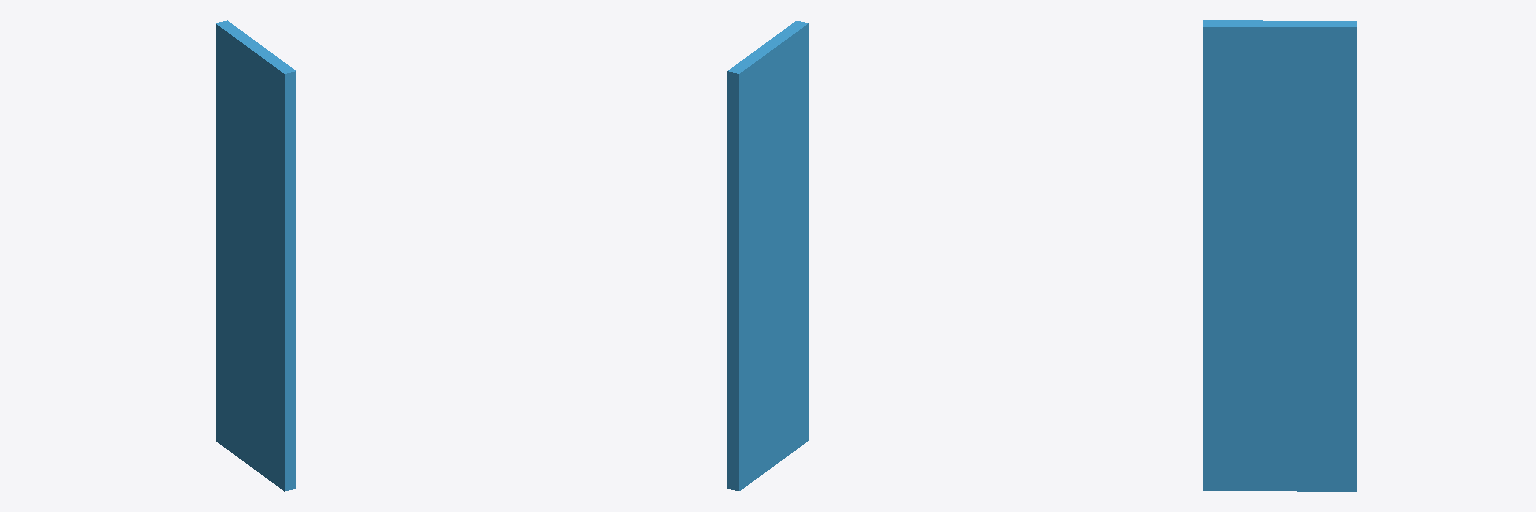
The robot description file, URDF, robot "door_closet":
<?xml version="1.0" ?>
<robot name="door_closet">
  <link name="world"/>
  <joint name="link_joint_closet" type="revolute">
    <axis xyz="0 0 1"/>
    <parent link="world"/>
    <origin rpy="0 0 1.57" xyz="5.49 2 0"/>
    <limit effort="100.0" lower="0" upper="1.57" velocity="5"/>
    <child link="link_closet"/>
  </joint>
  <link name="link_closet">
    <inertial>
      <mass value="20"/>
      <origin xyz="0 0 0"/>
      <inertia ixx="1.0" ixy="0.0" ixz="0.0" iyy="1" iyz="0.0" izz="3"/>
    </inertial>
    <visual>
      <origin rpy="0 0 0" xyz="0.3 0.03 1.06"/>
      <geometry>
        <box size="0.6 0.06 2"/>
      </geometry>
    </visual>
    <collision>
      <origin rpy="0 0 0" xyz="0 0 0"/>
      <geometry>
        <box size="0 0 0"/>
      </geometry>
    </collision>
  </link>
  <gazebo reference="link_closet">
    <material>Gazebo/RustySteel</material>
    <laserRetro>2000</laserRetro>
    <dampingFactor>0.005</dampingFactor>
    <selfCollide>true</selfCollide>
    <turnGravityOff>true</turnGravityOff>
  </gazebo>
</robot>

--- Render facts (derived) ---
The picture shows the robot from 3 angles, left to right: view 1: azimuth 30°, elevation 25°; view 2: azimuth 150°, elevation 25°; view 3: azimuth 270°, elevation 25°; orthographic projection.
Robot: door_closet — 2 links, 1 joints (1 revolute); root link world; default pose: all joints at 0.
Visible links, largest first — view 1: link_closet; view 2: link_closet; view 3: link_closet.
Boxes of the visible links, x1,y1,x2,y2 form: link_closet: (216, 20, 295, 491); link_closet: (727, 21, 808, 490); link_closet: (1203, 20, 1356, 491).
Bounding box of the posed robot: 0.0605 × 0.6 × 2 m (x, y, z).
Geometry: primitives only (box / cylinder / sphere), no mesh files.
